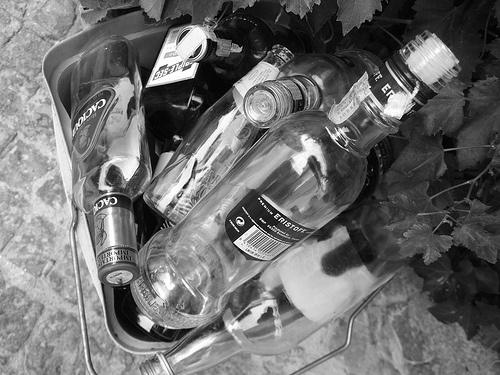bottle: (131, 31, 464, 331), (140, 224, 395, 375), (144, 46, 296, 225), (72, 36, 153, 288), (245, 49, 387, 148), (144, 23, 220, 184), (178, 16, 308, 74)
